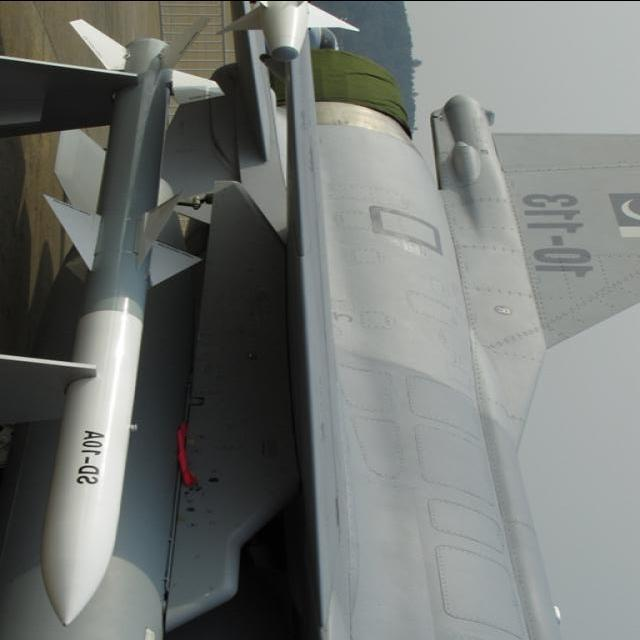missile: (43, 0, 198, 624)
